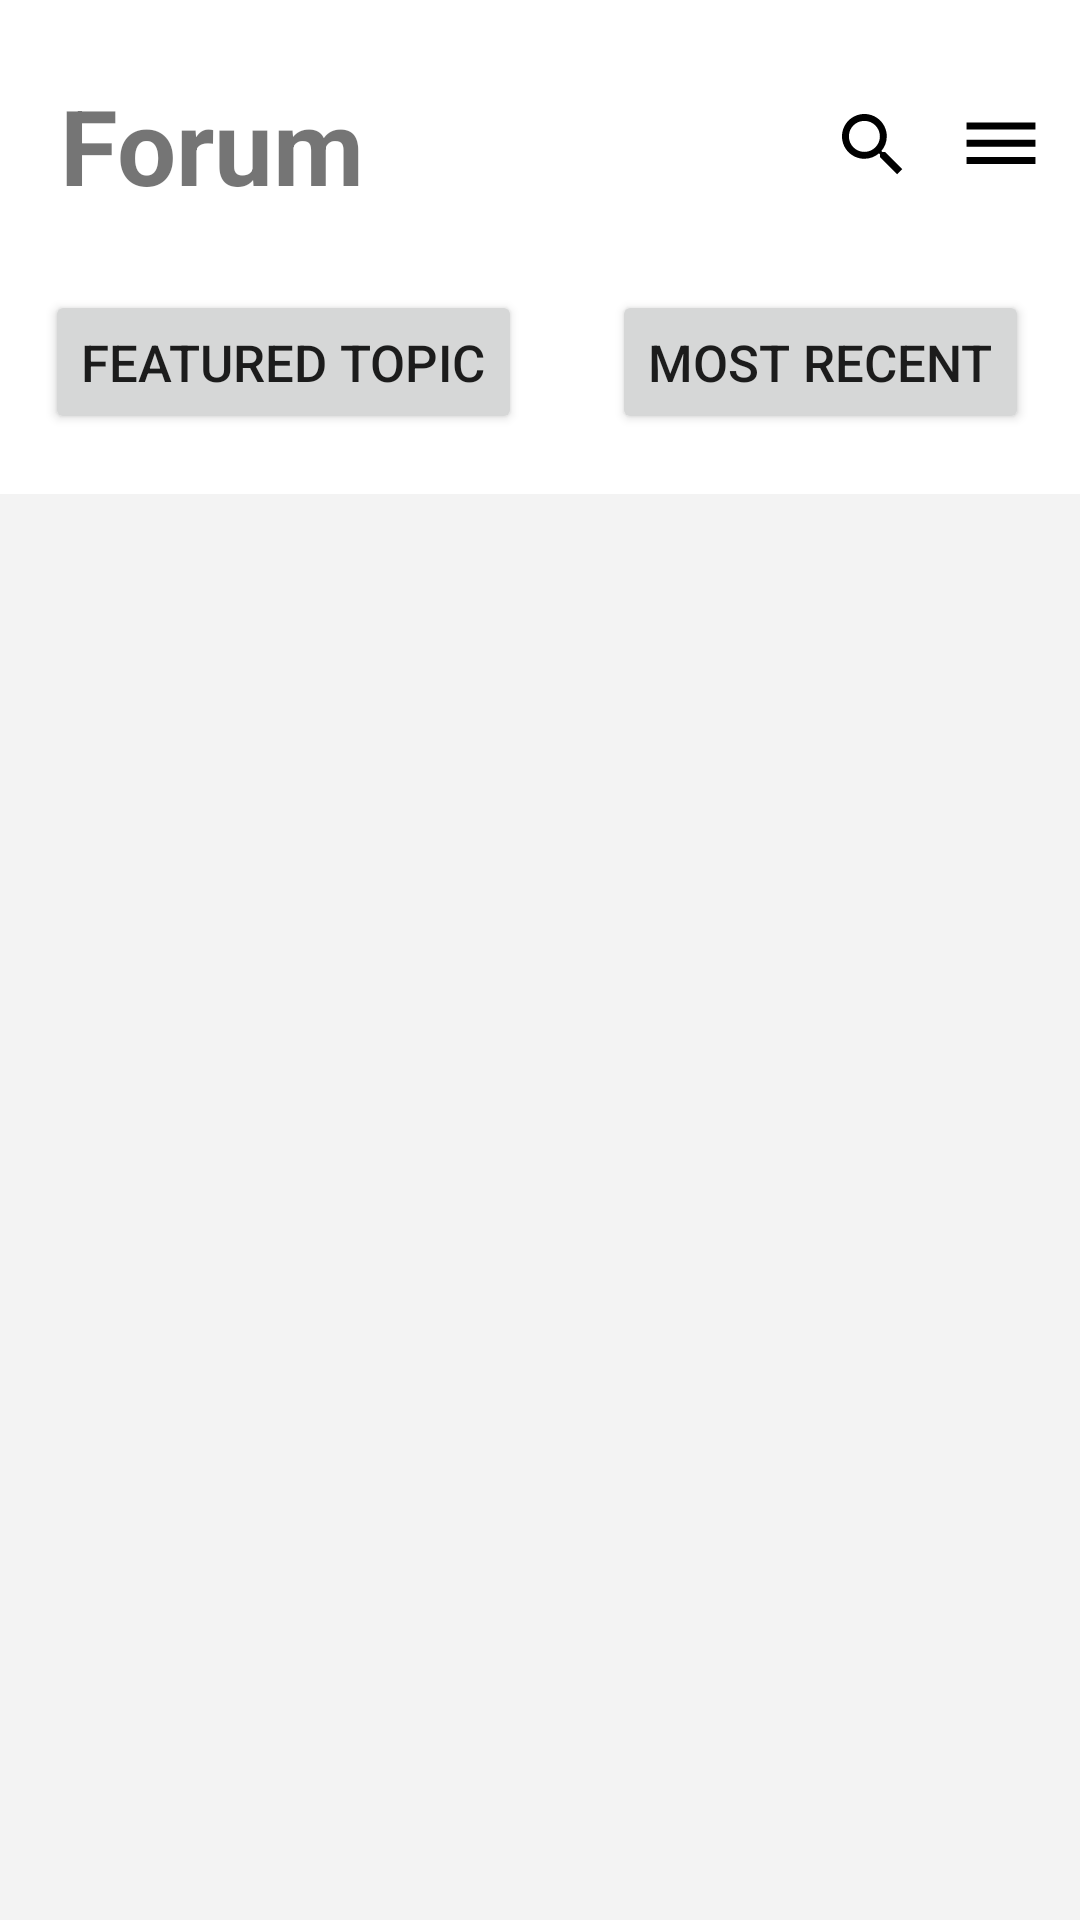

Icon click points for this 1080w x 1920h phone screenshot, format [x,y]:
hamburge: [1001,143]
serach: [872,144]
